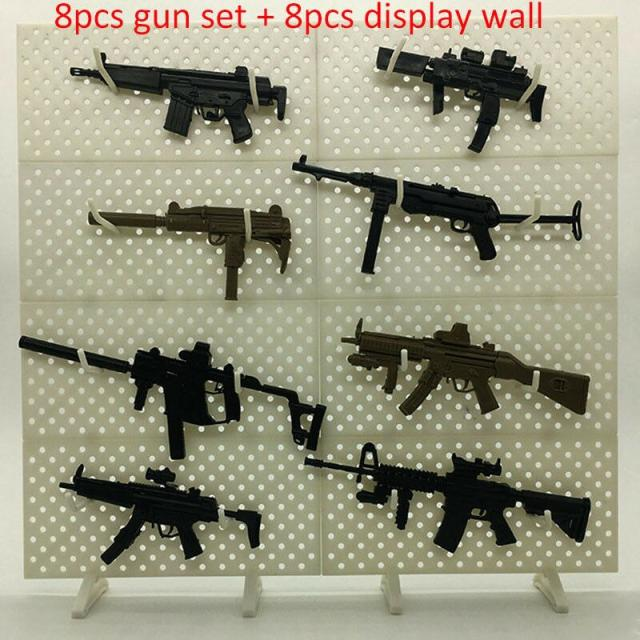Rifle: (305, 442, 592, 555)
SMG: (294, 159, 569, 277), (356, 322, 590, 415), (82, 342, 241, 461), (71, 58, 285, 143), (88, 208, 291, 295), (58, 465, 225, 570), (378, 48, 546, 150), (241, 374, 326, 450), (18, 336, 81, 362), (229, 509, 262, 549)
